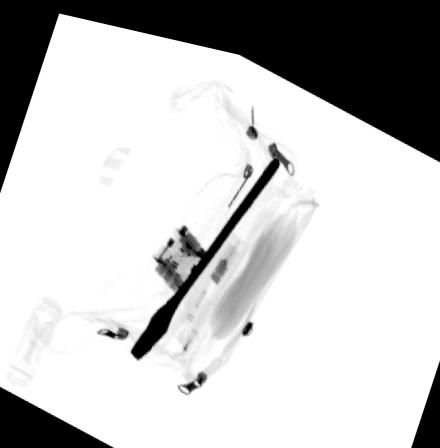Wrench: (127, 140, 281, 356)
